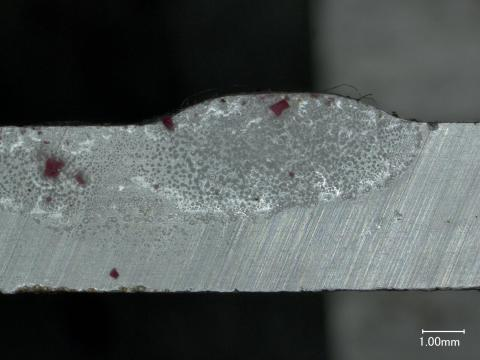test: (151, 93, 405, 123)
